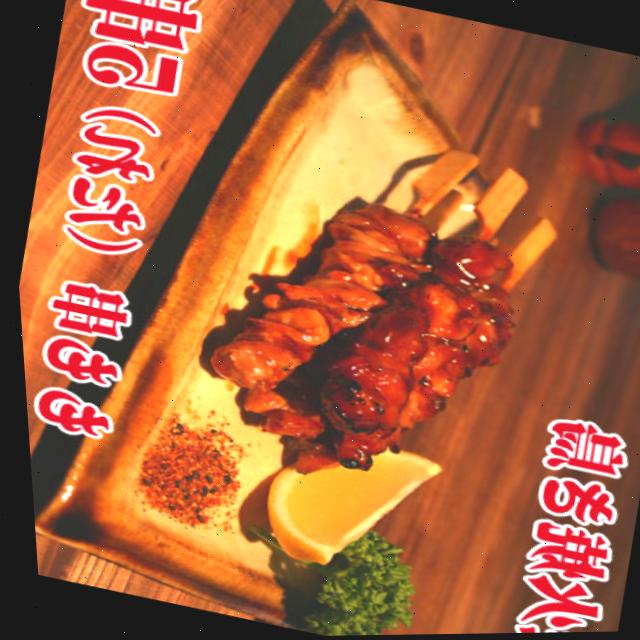烧串烤肉: (153, 94, 604, 535)
